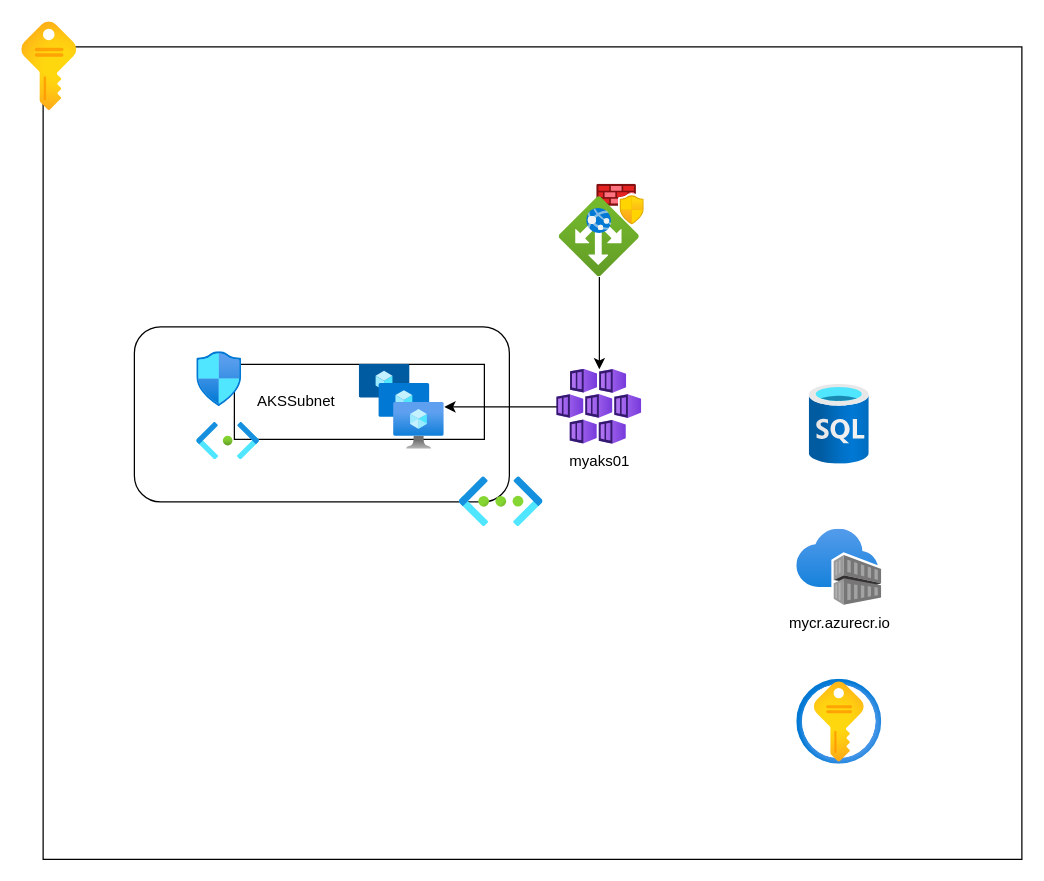
Image size: 1044x881. Some labels were removed from this diagram. The centre of each missing label's shape, as x and y in pixels:
mysql01.database.windows.net: point 839,424
myvault01.vaultcore.azure.net: point 838,721
